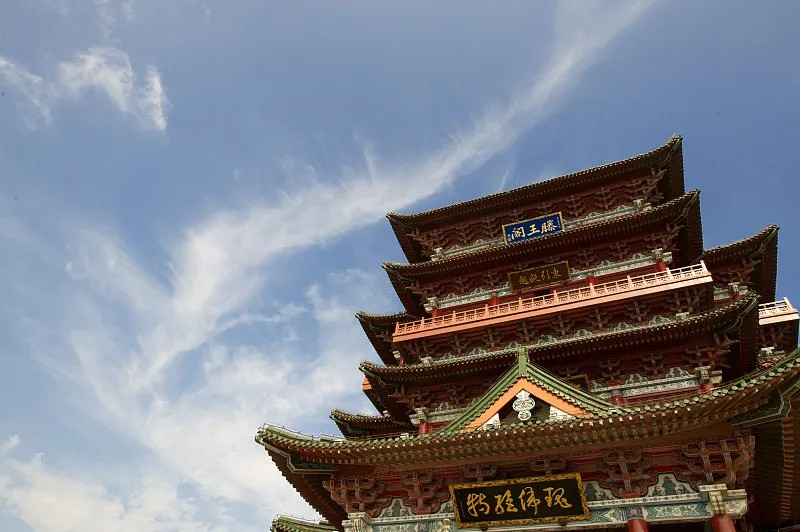Teng: (255, 134, 800, 531)
